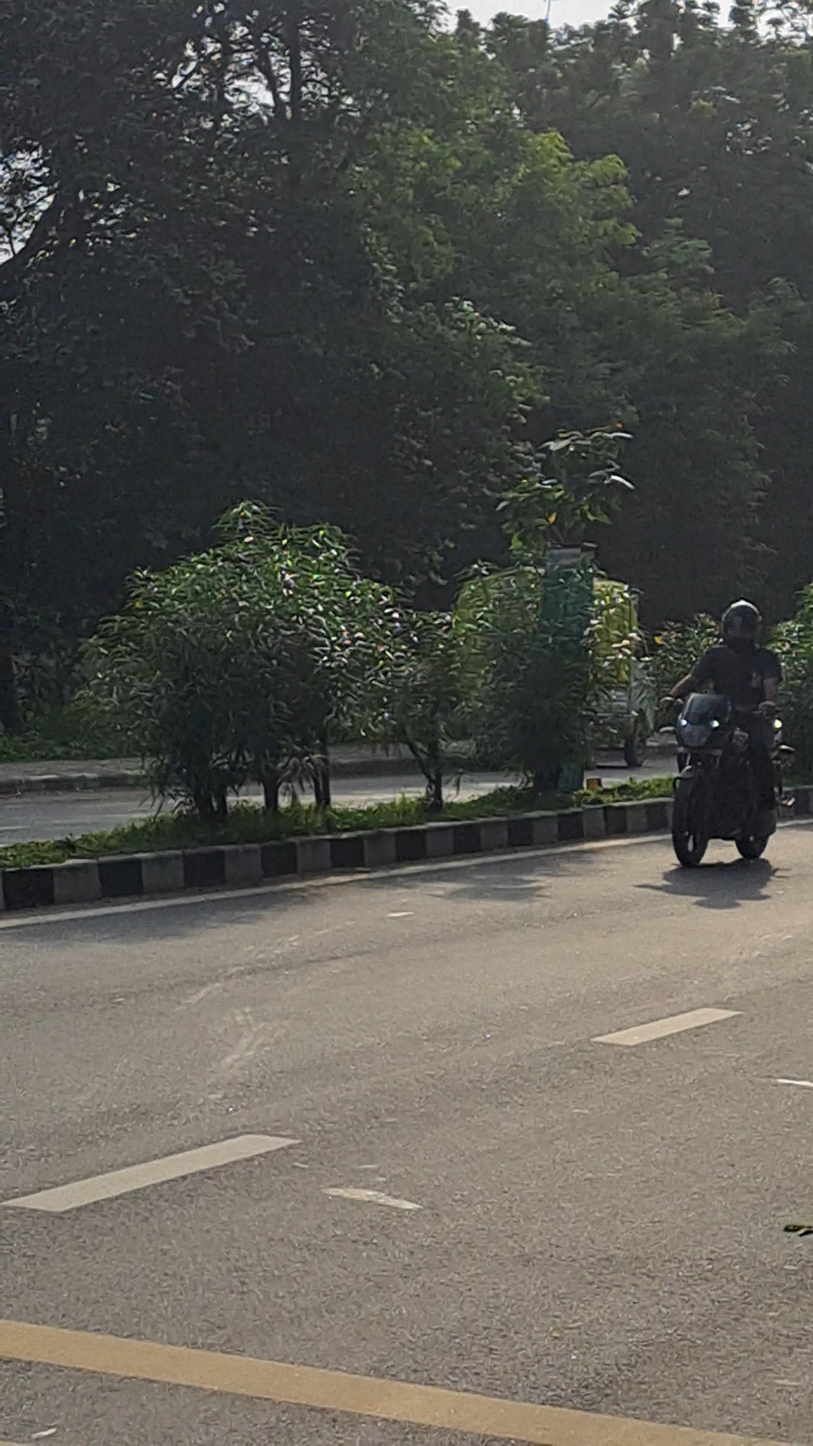BikeWithRider: (621, 574, 800, 900)
Helmet: (713, 590, 772, 653)
